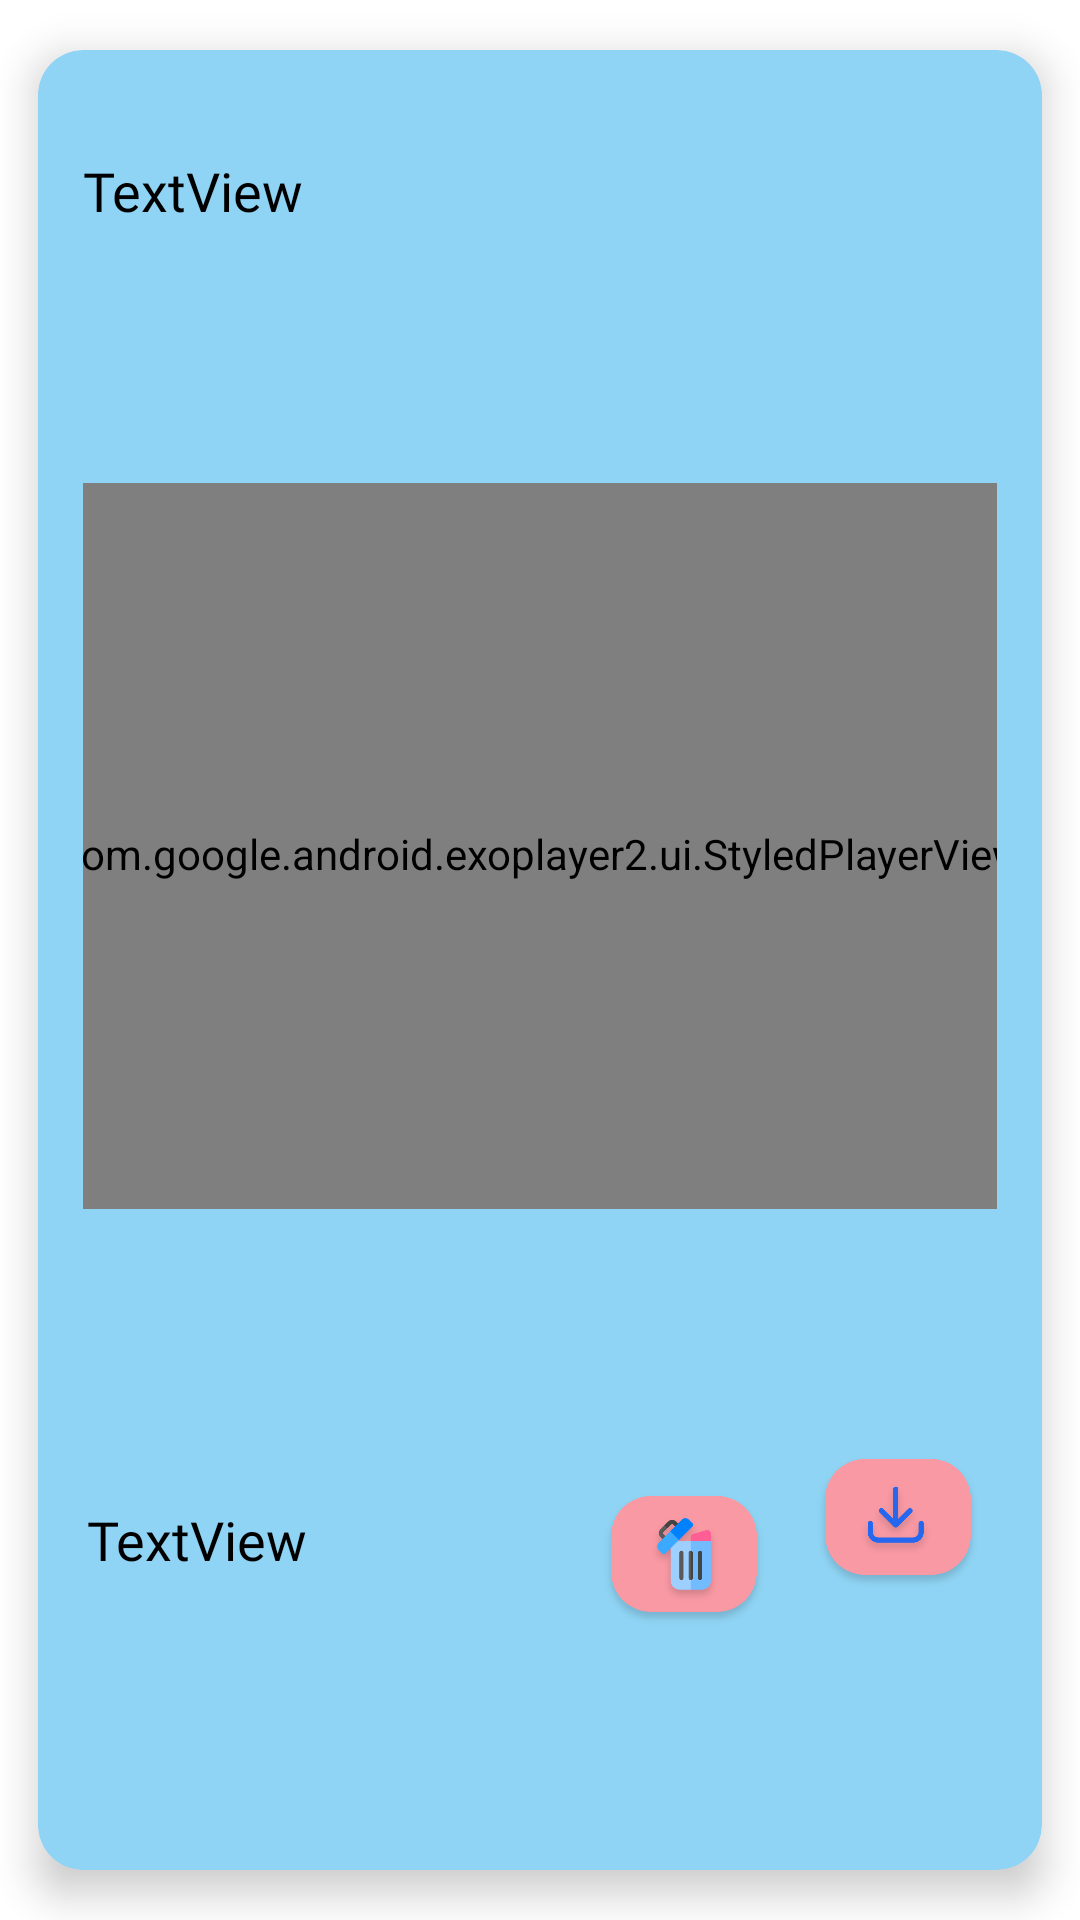

Point at icon controls on the screen. Image size 1080w x 1920h, points as [x,y].
delete: [684,1556]
downlaod: [898,1519]
